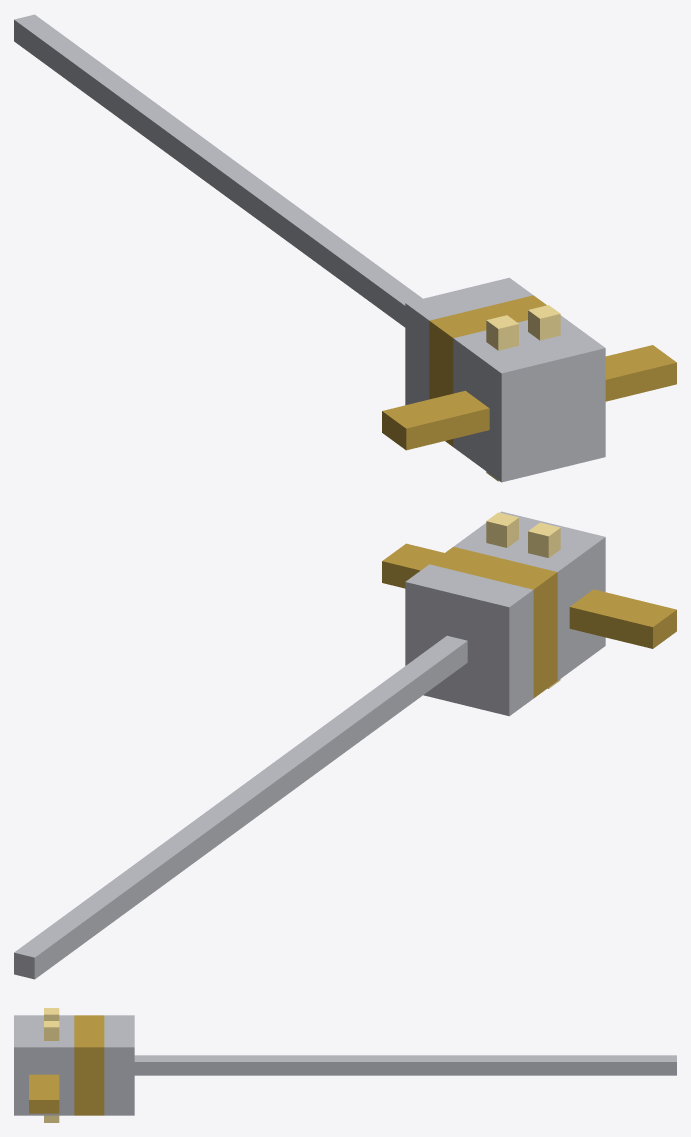
File: vox_totem_star.glb
3 renders of one model, top to bottom at view 1: azimuth 30°, elevation 25°; view 2: azimuth 150°, elevation 25°; view 3: azimuth 270°, elevation 25°, orthographic. The views are drawn at different scales.
Visible parts, largest first — view 1: vox_totem_star; view 2: vox_totem_star; view 3: vox_totem_star.
Boxes of the visible parts, box(x1,y1,x2,y2) form: vox_totem_star: box(14, 14, 676, 482); vox_totem_star: box(14, 511, 676, 979); vox_totem_star: box(14, 1008, 676, 1122).
Bounding box in the file's own units: 0.26 × 0.14 × 0.88.
